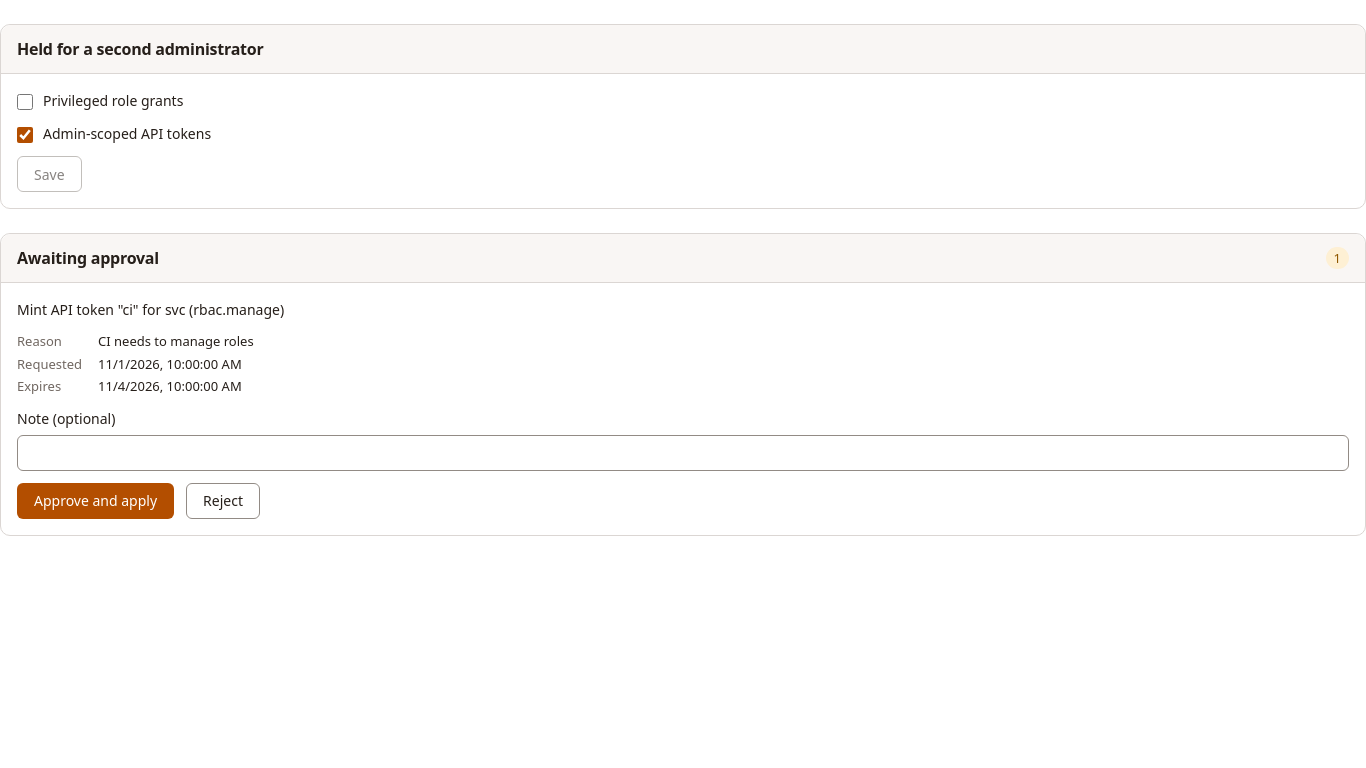
ChangeControlTab › approves, and shows a minted secret once
The image size is (1366, 768).
Type "Checked with CI owner" into the field labelled "Note (optional)" at (683,453), box top-left (17, 435), bottom-right (1349, 471)
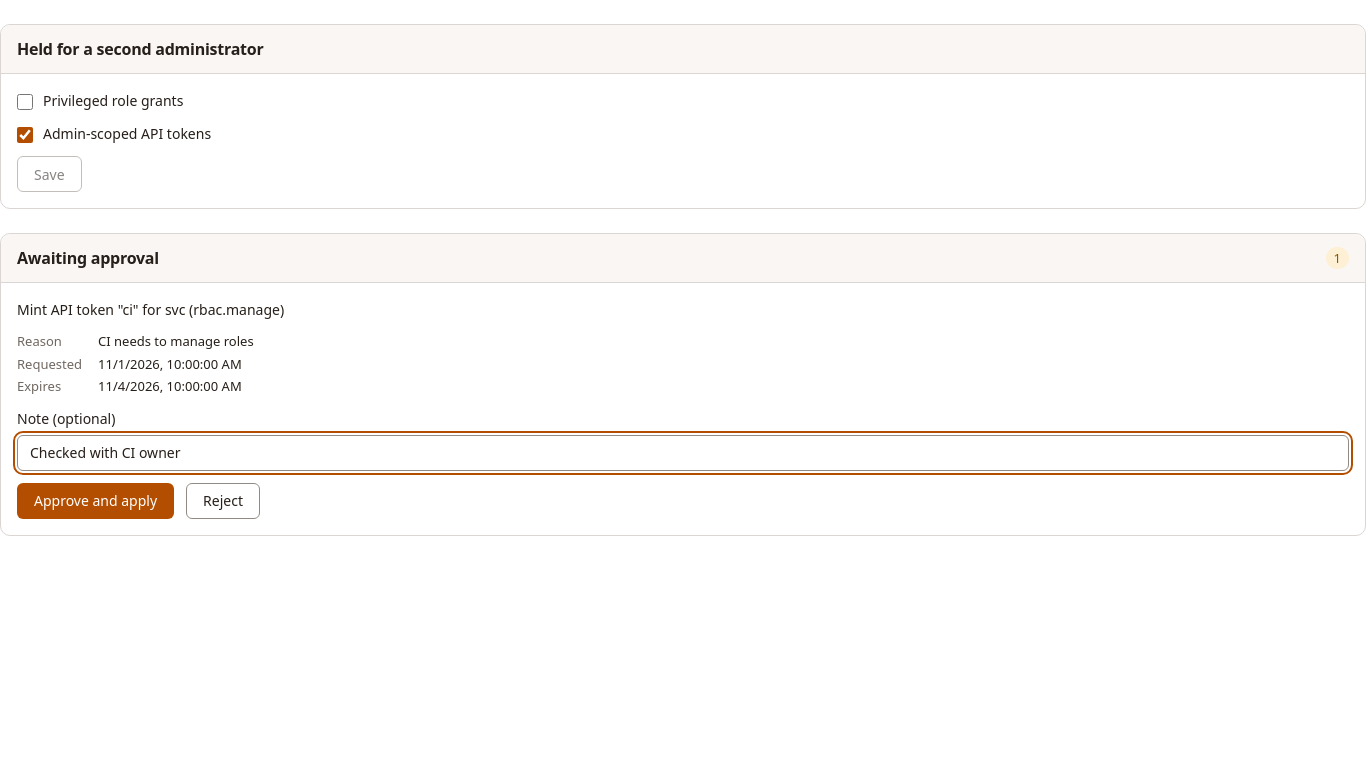
Click the button "Approve and apply" at (96,501), box top-left (17, 483), bottom-right (174, 519)
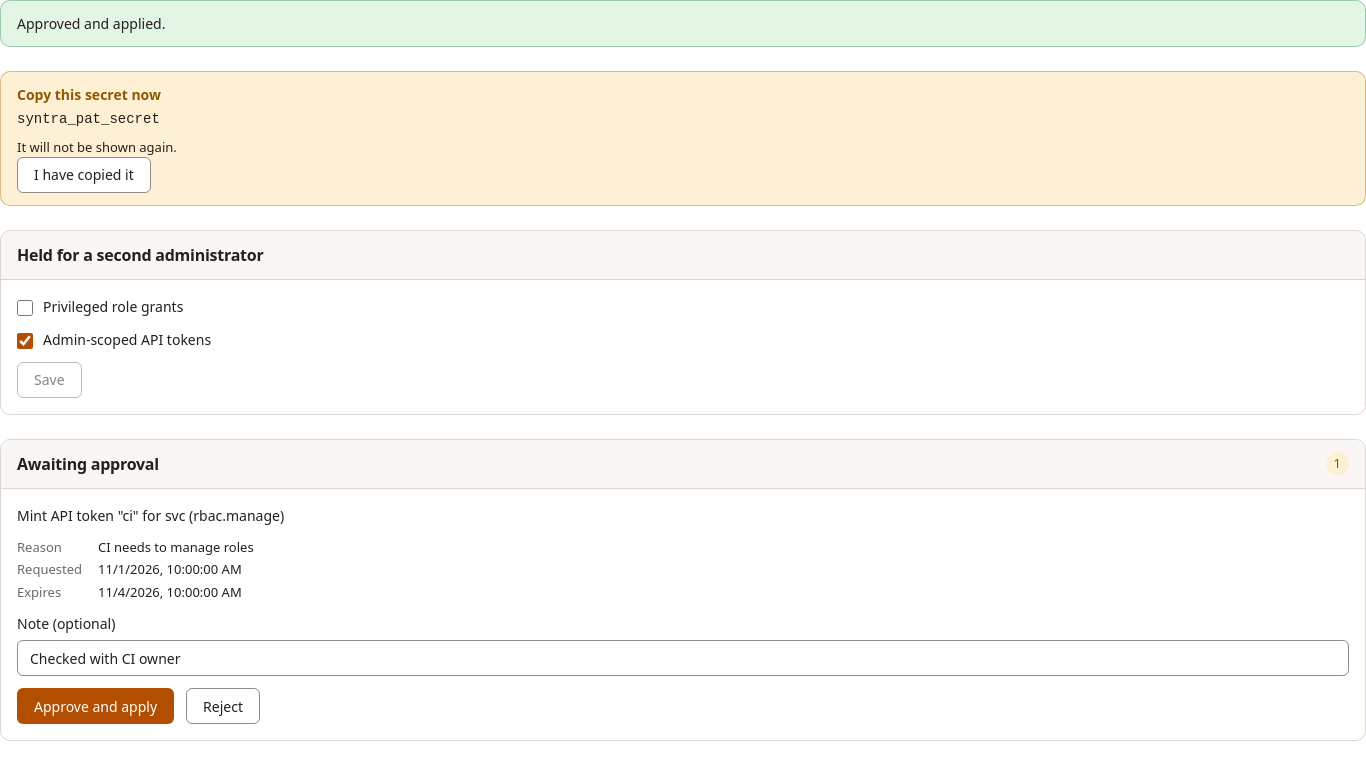
expect the text "syntra_pat_secret" is shown: met, box top-left (17, 111), bottom-right (160, 127)
